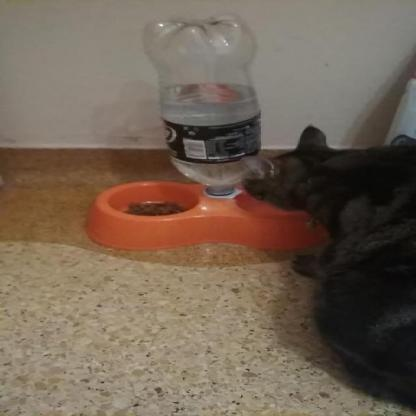Plastic Bottle: (144, 16, 261, 197)
